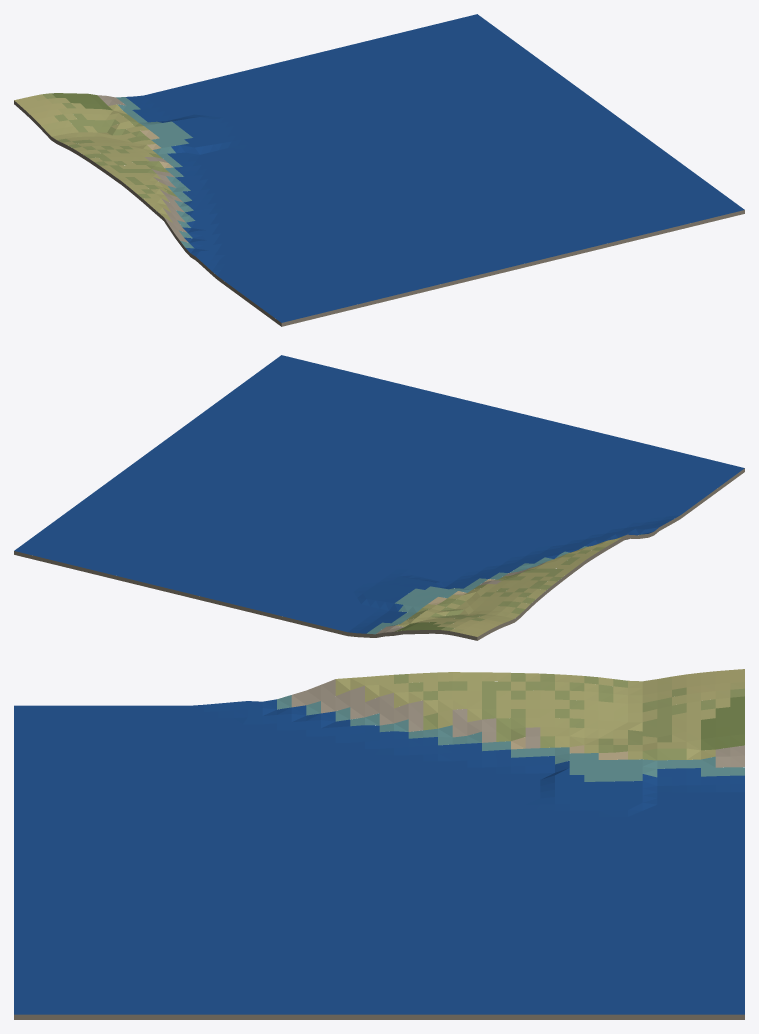
Rendered from parca_+15_-4-uzak.glb.
The picture shows the model from 3 angles, top to bottom: view 1: azimuth 30°, elevation 25°; view 2: azimuth 150°, elevation 25°; view 3: azimuth 270°, elevation 25°; orthographic projection. The views are drawn at different scales.
Visible parts, largest first — view 1: parca_+15_-4_arazi_uzak; view 2: parca_+15_-4_arazi_uzak; view 3: parca_+15_-4_arazi_uzak.
Boxes of the visible parts, x1,y1,x2,y2 form: parca_+15_-4_arazi_uzak: (14, 14, 744, 326); parca_+15_-4_arazi_uzak: (14, 355, 744, 640); parca_+15_-4_arazi_uzak: (14, 669, 744, 1019).
Bounding box in the file's own units: 1000 × 63.49 × 1000.
